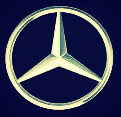Mercedes: (2, 3, 119, 114)
